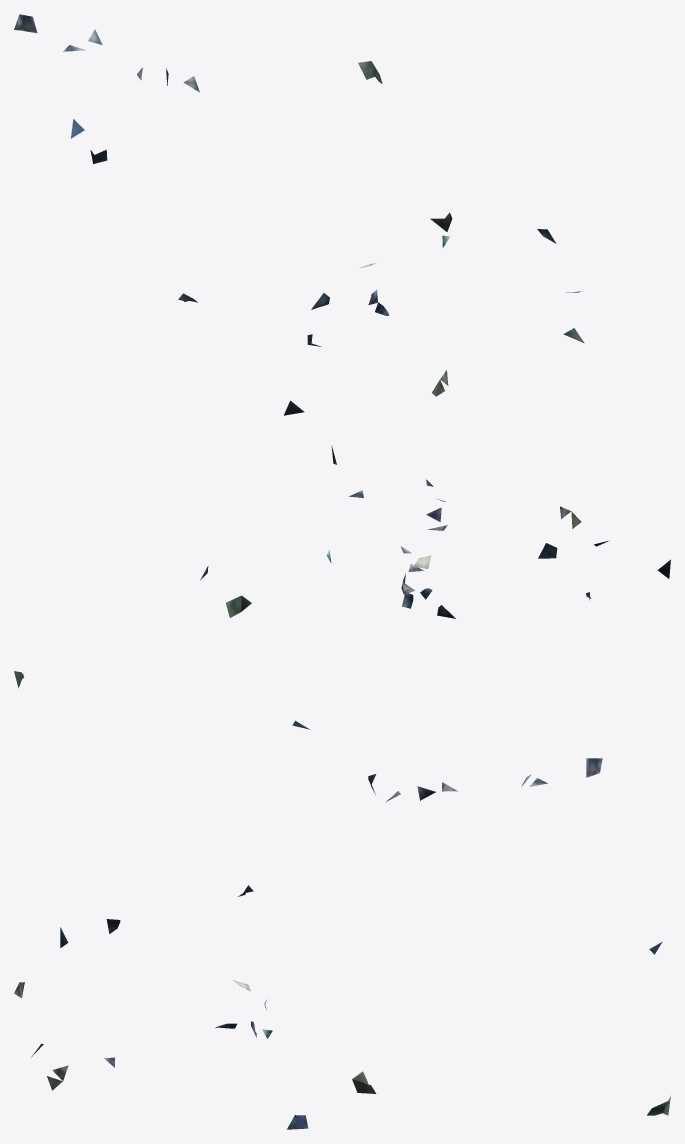
3 views of the same model, one above another, from view 1: azimuth 30°, elevation 25°; view 2: azimuth 150°, elevation 25°; view 3: azimuth 270°, elevation 25° (orthographic). The views are drawn at different scales.
Visible parts, largest first — view 1: 3043627270437060741_1; view 2: 3043627270437060741_1; view 3: 3043627270437060741_1.
Part boxes in pixels (bbox=[...]): 3043627270437060741_1: bbox=[14, 14, 584, 415]; 3043627270437060741_1: bbox=[14, 445, 670, 729]; 3043627270437060741_1: bbox=[14, 758, 670, 1129].
Bounding box in the file's own units: 54.61 × 24.65 × 74.36.
Materials: 1 (1 with a texture image).
